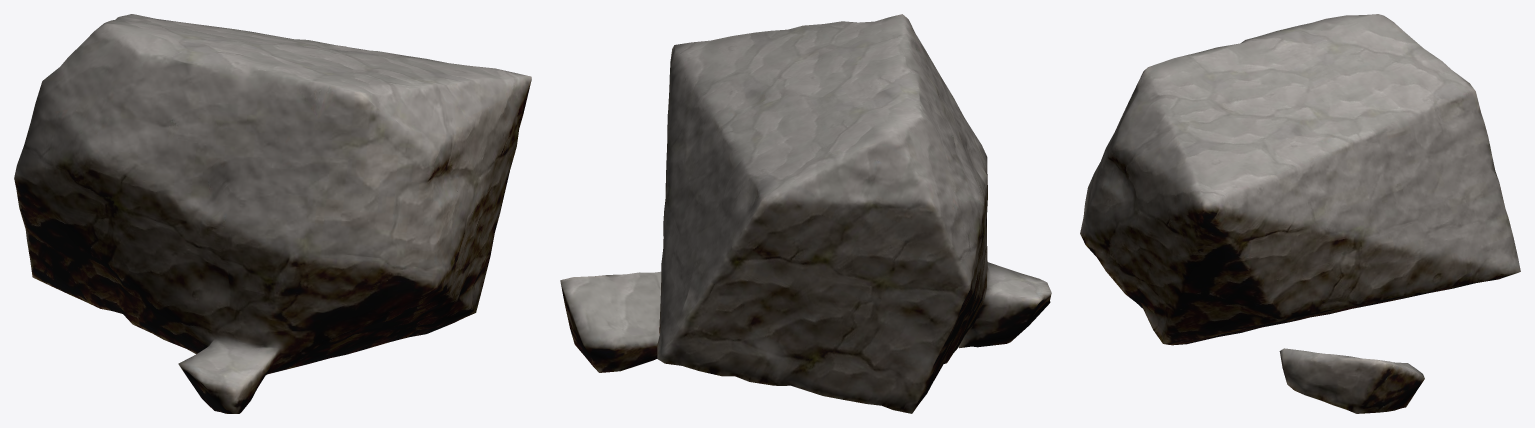
Rendered from boulder_round.glb.
The picture shows the model from 3 angles, left to right: view 1: azimuth 30°, elevation 25°; view 2: azimuth 150°, elevation 25°; view 3: azimuth 270°, elevation 25°; orthographic projection. The views are drawn at different scales.
Parts seen in each view (by area): view 1: rock; view 2: rock; view 3: rock.
Boxes of the visible parts, x1=… form: rock: x1=14, y1=14, x2=531, y2=413; rock: x1=560, y1=14, x2=1051, y2=413; rock: x1=1080, y1=14, x2=1520, y2=413.
Size of the model in its own units: 1.32 by 0.9172 by 1.35.
1 material, 1 textured.
